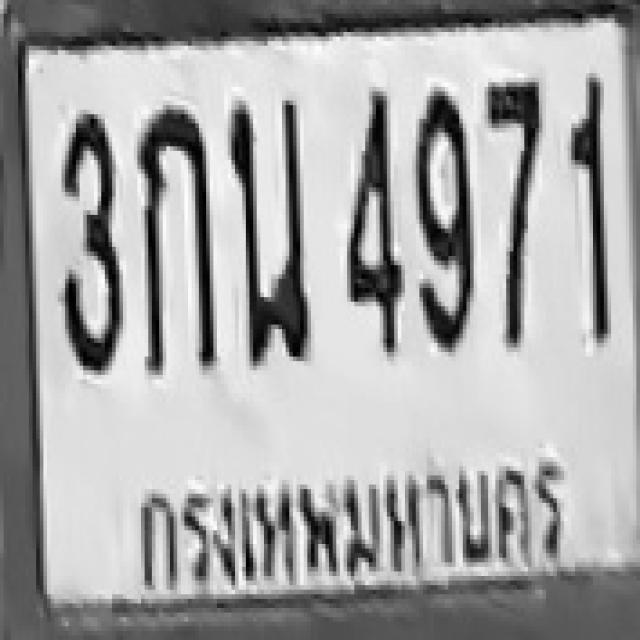10GorGai: (136, 108, 215, 372)
3: (58, 108, 123, 372)
34NorNu: (230, 99, 309, 364), (231, 178, 311, 366)
4: (344, 87, 402, 356)
7: (484, 80, 542, 336), (484, 78, 542, 247)
9: (412, 87, 474, 352)
Bangkok: (122, 438, 589, 607)
